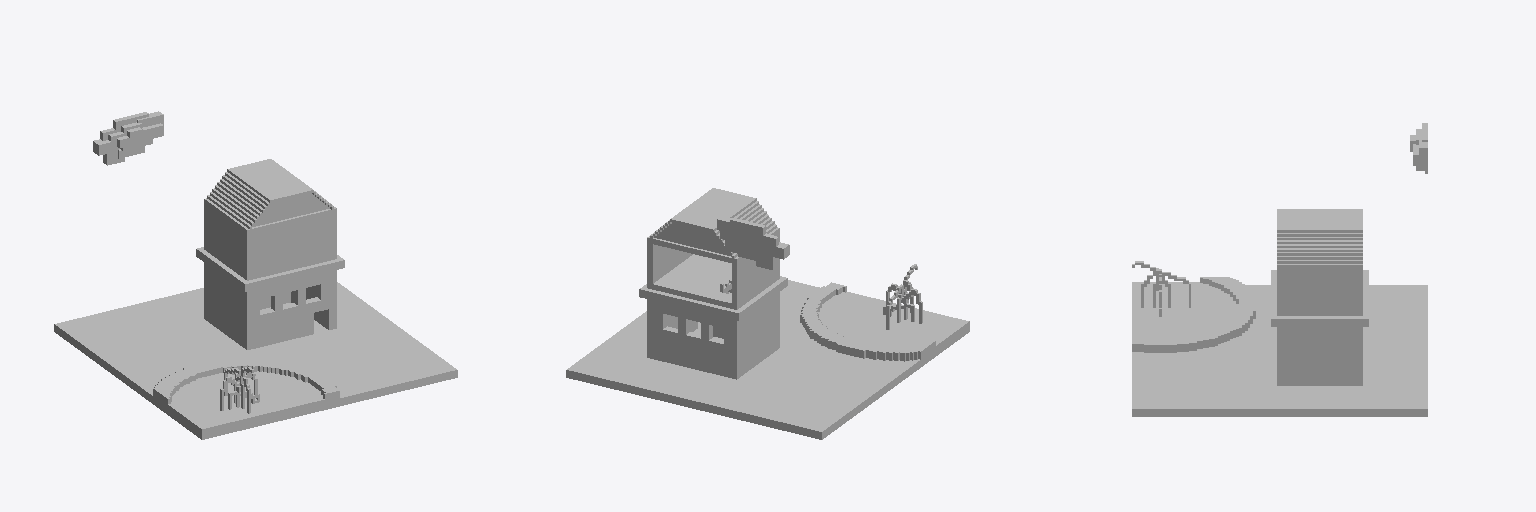
File: house.obj
The picture shows the model from 3 angles: view 1: azimuth 30°, elevation 25°; view 2: azimuth 150°, elevation 25°; view 3: azimuth 270°, elevation 25°; orthographic projection.
Parts seen in each view (by area): view 1: object 1; view 2: object 1; view 3: object 1.
Part boxes in pixels (x1,y1,x2,y2): object 1: (54,111,457,439); object 1: (566,188,969,439); object 1: (1132,123,1427,416).
Bounding box in the file's own units: 10 × 7.4 × 10.